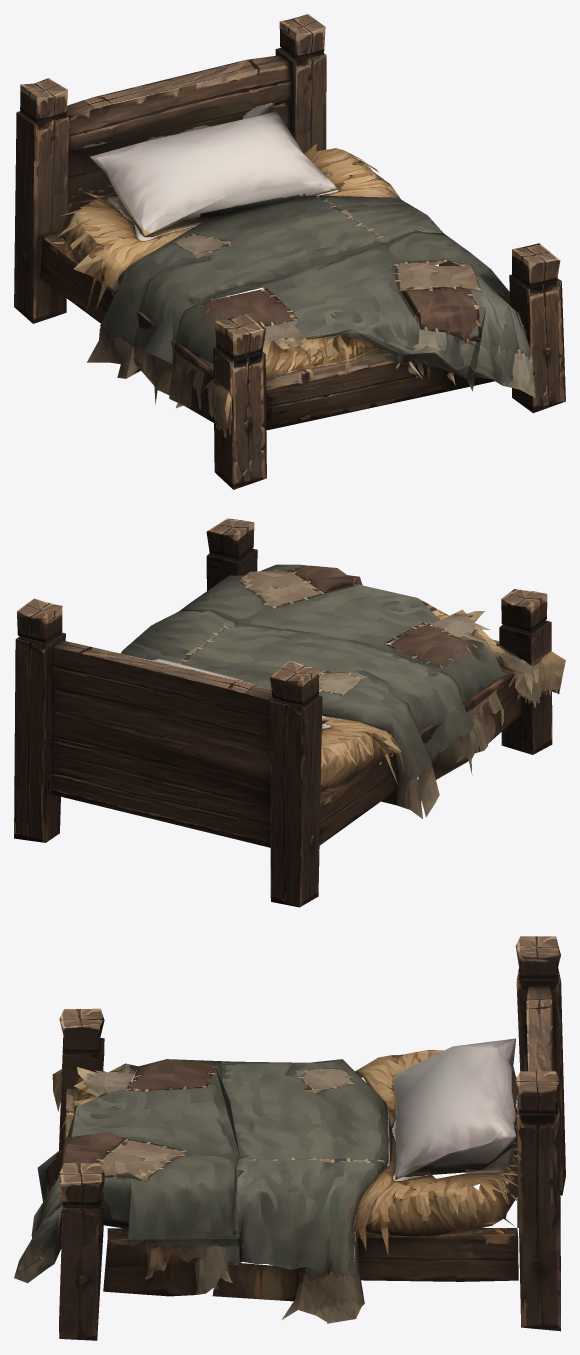
The model's file is act1_extras_v1_bed_clean_pillow.glb.
The picture shows the model from 3 angles, top to bottom: view 1: azimuth 30°, elevation 25°; view 2: azimuth 150°, elevation 25°; view 3: azimuth 270°, elevation 25°; orthographic projection. The views are drawn at different scales.
Visible parts, largest first — view 1: A18_2_bed_clean_pillow; view 2: A18_2_bed_clean_pillow; view 3: A18_2_bed_clean_pillow.
Boxes of the visible parts, x1,y1,x2,y2 form: A18_2_bed_clean_pillow: (14, 14, 565, 489); A18_2_bed_clean_pillow: (14, 518, 565, 907); A18_2_bed_clean_pillow: (14, 936, 565, 1340).
Size of the model in its own units: 0.7739 by 0.4907 by 0.9971.
1 material, 1 textured.
